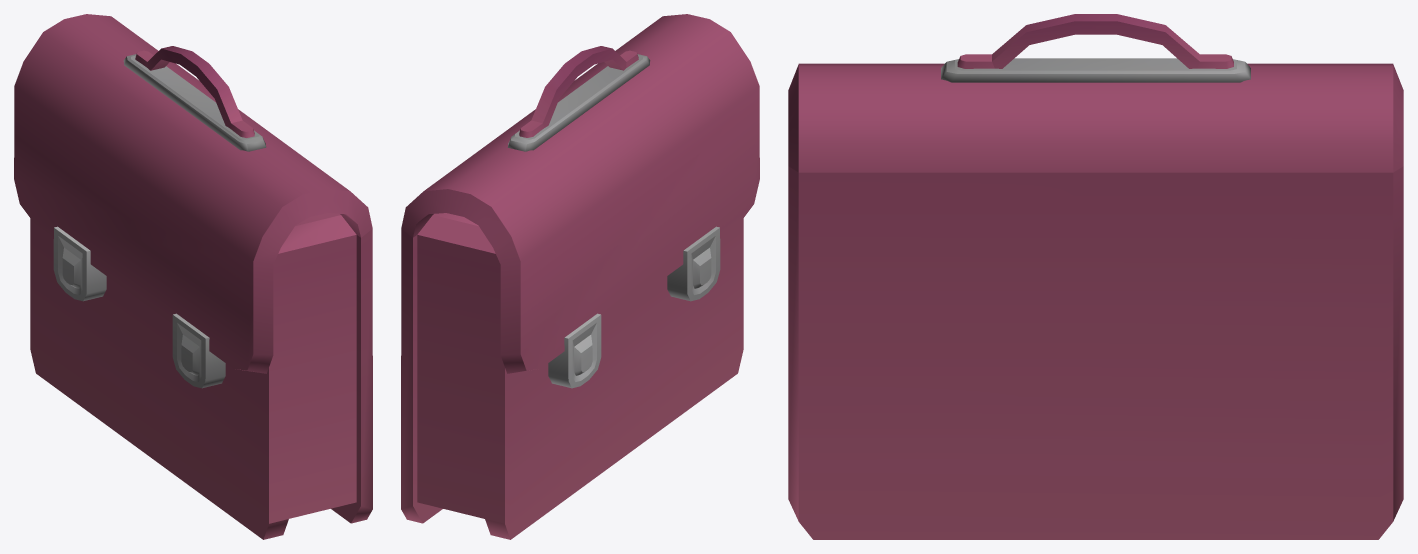
Rendered from Suitcase_1_1_E.glb.
3 renders of one model, left to right at view 1: azimuth 30°, elevation 25°; view 2: azimuth 150°, elevation 25°; view 3: azimuth 270°, elevation 25°, orthographic. The views are drawn at different scales.
Parts seen in each view (by area): view 1: Suitcase_1_1_E; view 2: Suitcase_1_1_E; view 3: Suitcase_1_1_E.
Boxes of the visible parts, x1,y1,x2,y2 form: Suitcase_1_1_E: (14, 14, 372, 539); Suitcase_1_1_E: (401, 14, 759, 539); Suitcase_1_1_E: (788, 14, 1403, 539).
Bounding box in the file's own units: 0.1604 × 0.4779 × 0.5473.
2 materials, 2 textured.
